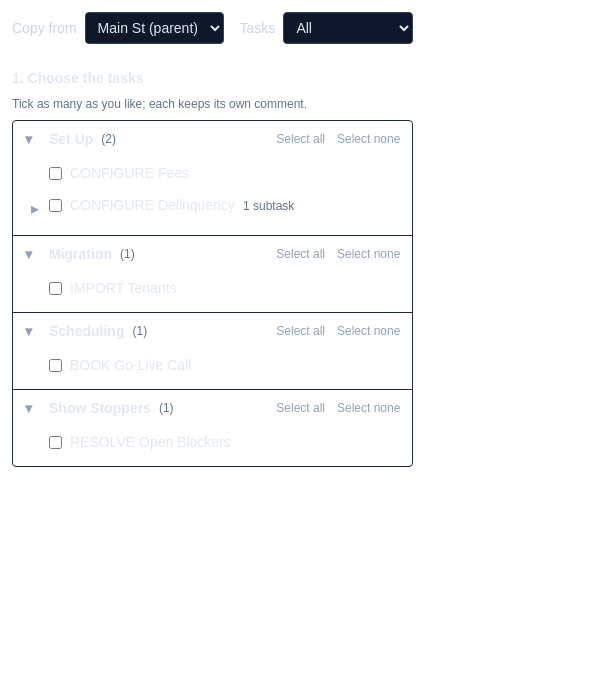
it: BulkCopyPanel › offers select all and select none in the dropdown
Click the checkbox named "Copy from CONFIGURE Fees". click: (56, 174)
box: [49, 167, 62, 180]
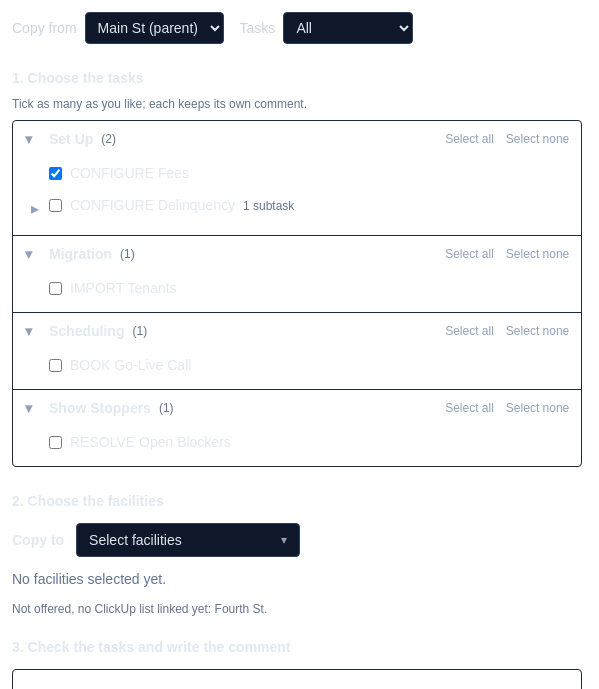
Now the button "Select facilities ▾" is shown
Click the button "Select facilities ▾". click: (188, 540)
box: [76, 523, 300, 557]
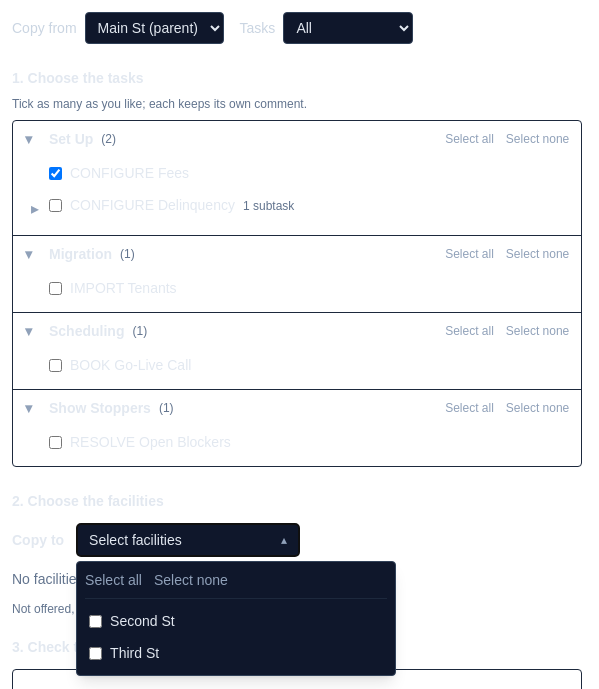
Click the button "Select all" next to "No facilities selected yet.". click: (114, 580)
box: [85, 570, 142, 590]
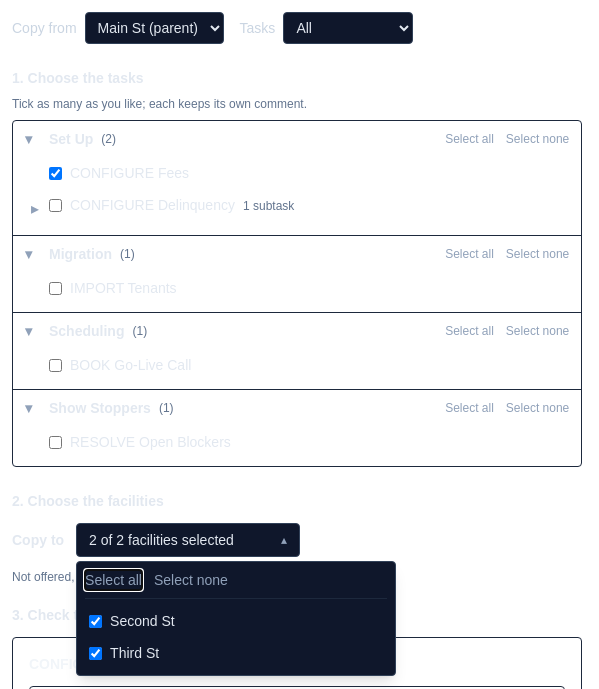
Now the checkbox named "Copy to Second St" is checked, box [89, 615, 102, 628]
Now the checkbox named "Copy to Third St" is checked, box [89, 647, 102, 660]
Now the button "2 of 2 facilities selected ▴" is shown, box [76, 523, 300, 557]
Click the button "Select none" next to "Not offered, no ClickUp list linked yet:". click: (191, 580)
box: [154, 570, 228, 590]
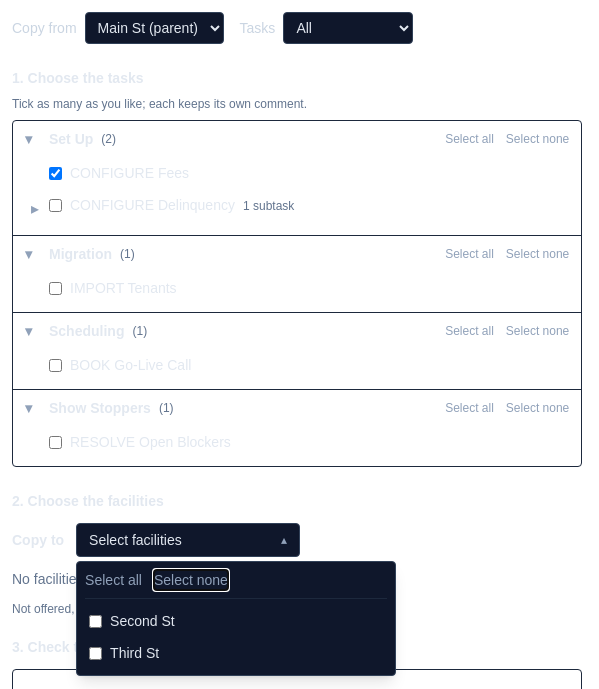
Now the checkbox named "Copy to Second St" is not checked, box [89, 615, 102, 628]
Now the button "Select facilities ▴" is shown, box [76, 523, 300, 557]
